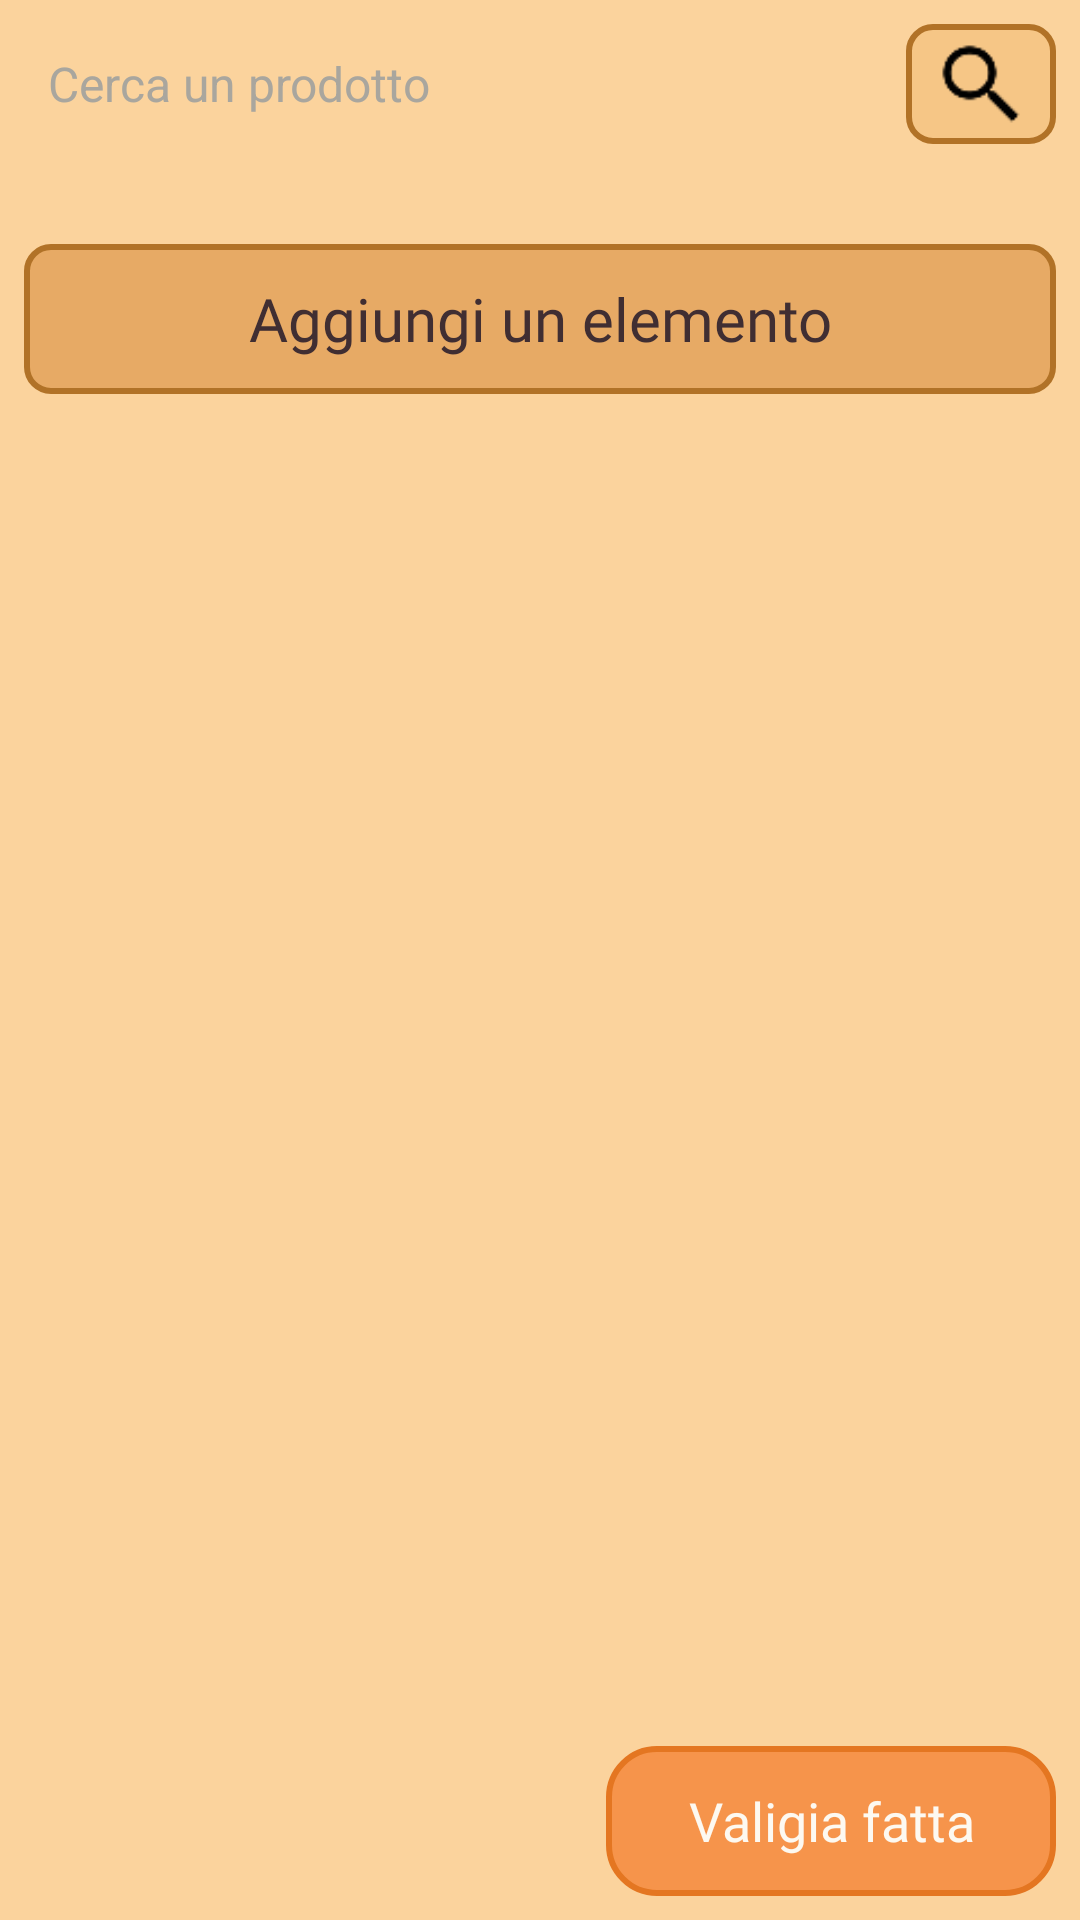

Icon bounding boxes for this 1080px×1920px phone screenshot, format (x1, y1, x2, y2):
search: (942, 45, 1019, 122)
